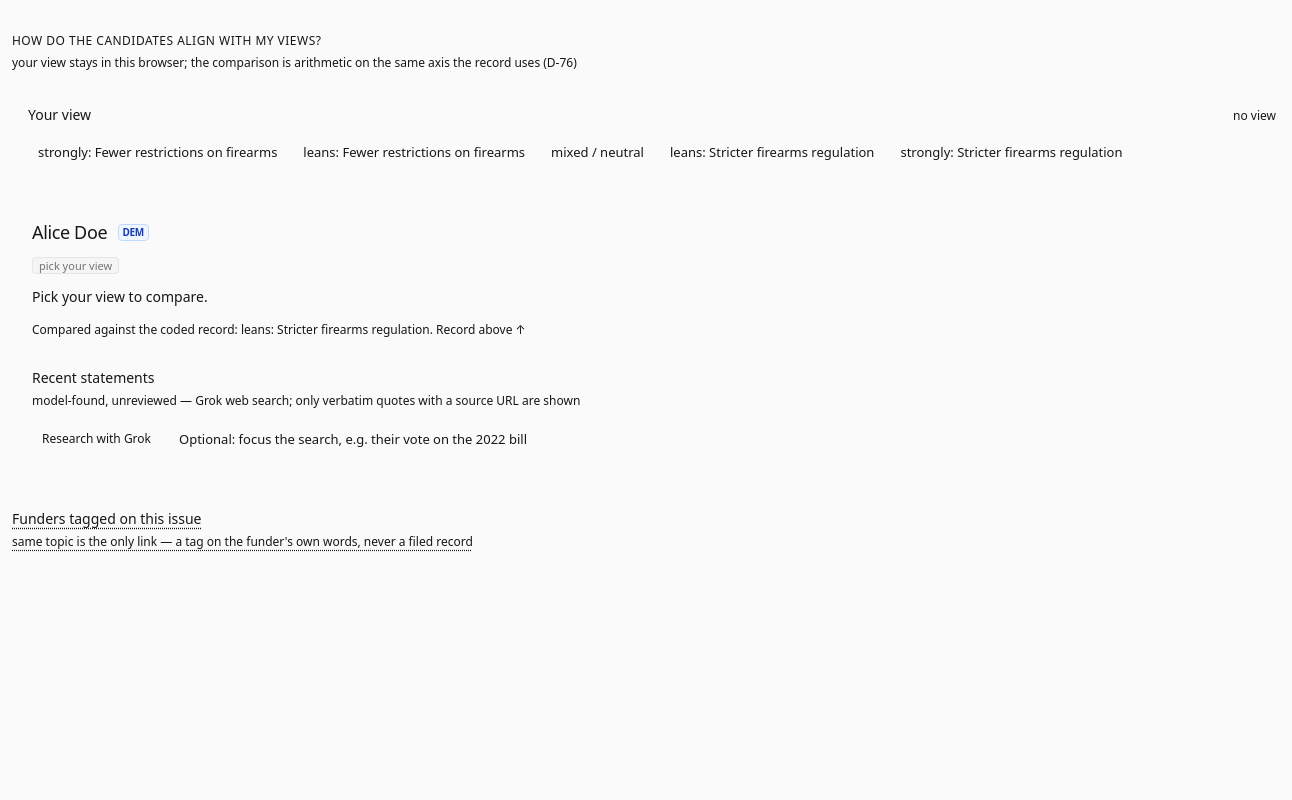
AlignPanel › researches only after clicking and renders sourced quotes
The image size is (1292, 800).
Click the button "Research with Grok".
click(96, 439)  # box [32, 422, 161, 456]
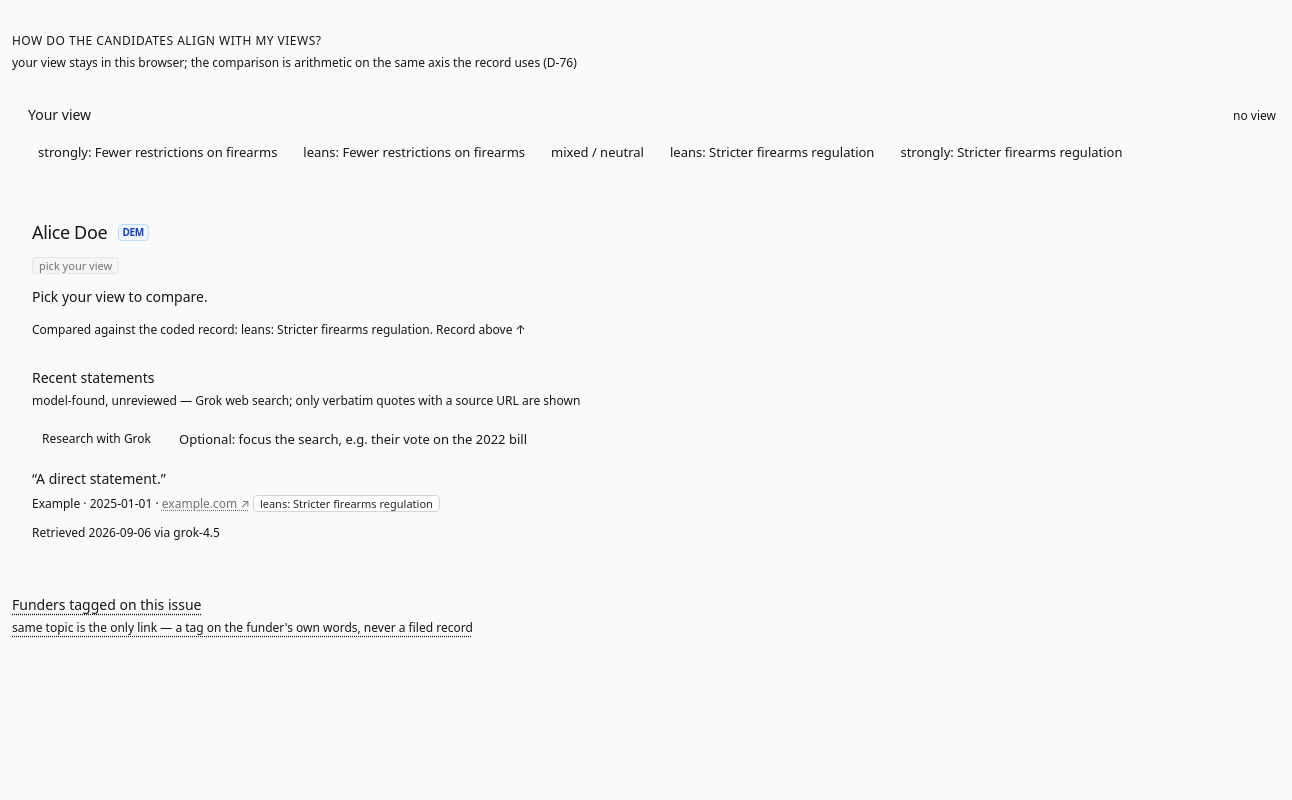
Check: the text "“A direct statement.”" is shown, box [32, 469, 166, 488]
